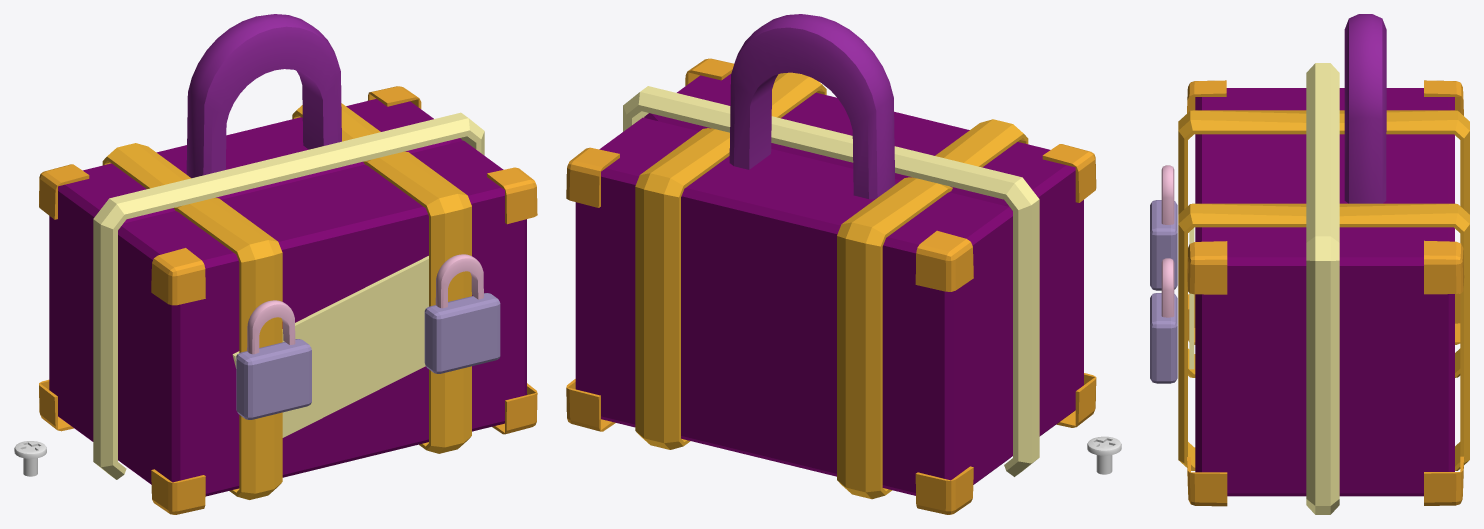
3 renders of one model, left to right at view 1: azimuth 30°, elevation 25°; view 2: azimuth 150°, elevation 25°; view 3: azimuth 270°, elevation 25°, orthographic. The views are drawn at different scales.
Parts seen in each view (by area): view 1: Cube.014, Cube.015, Cube.022, Cylinder.004, Cube.031, Cube.016, Cube.017, Cube.020, Cube.030, Cube.023, Cube.018, Cube.024 (+9 smaller); view 2: Cube.015, Cube.014, Cylinder.004, Cube.022, Cube.018, Cube.019, Cube.026, Cube.016, Cube.029, Cube.027, Cube.017, Cube.023 (+4 smaller); view 3: Cube.014, Cube.015, Cube.022, Cylinder.004, Cube.017, Cube.019, Cube.016, Cube.018, Cube.020, Cube.021, Cube.027, Cube.030 (+7 smaller).
Boxes of the visible parts, bbox=[...] form: Cube.014: bbox=[118, 140, 526, 496]; Cube.015: bbox=[49, 99, 462, 441]; Cube.022: bbox=[93, 112, 484, 479]; Cylinder.004: bbox=[186, 14, 341, 178]; Cube.031: bbox=[232, 256, 428, 437]; Cube.016: bbox=[174, 197, 282, 499]; Cube.017: bbox=[363, 151, 471, 453]; Cube.020: bbox=[424, 293, 500, 373]; Cube.030: bbox=[236, 339, 311, 419]; Cube.023: bbox=[151, 248, 205, 305]; Cube.018: bbox=[102, 143, 190, 188]; Cube.024: bbox=[151, 469, 205, 514]; Cube.015: bbox=[575, 117, 1012, 495]; Cube.014: bbox=[644, 74, 1083, 436]; Cylinder.004: bbox=[729, 14, 895, 199]; Cube.022: bbox=[623, 86, 1039, 476]; Cube.018: bbox=[837, 177, 952, 499]; Cube.019: bbox=[635, 128, 729, 449]; Cube.026: bbox=[915, 230, 973, 291]; Cube.016: bbox=[935, 119, 1028, 167]; Cube.029: bbox=[915, 466, 973, 514]; Cube.027: bbox=[566, 147, 619, 207]; Cube.017: bbox=[771, 72, 826, 118]; Cube.023: bbox=[1042, 144, 1096, 202]; Cube.014: bbox=[1195, 88, 1306, 496]; Cube.015: bbox=[1339, 88, 1454, 496]; Cube.022: bbox=[1306, 63, 1339, 514]; Cylinder.004: bbox=[1344, 14, 1386, 203]; Cube.017: bbox=[1178, 203, 1306, 470]; Cube.019: bbox=[1339, 203, 1469, 470]; Cube.016: bbox=[1178, 110, 1306, 377]; Cube.018: bbox=[1339, 110, 1469, 377]; Cube.020: bbox=[1150, 293, 1177, 383]; Cube.021: bbox=[1187, 241, 1227, 294]; Cube.027: bbox=[1424, 240, 1464, 294]; Cube.030: bbox=[1150, 200, 1177, 290].
Size of the model in its own units: 32.37 by 26.79 by 19.18.
